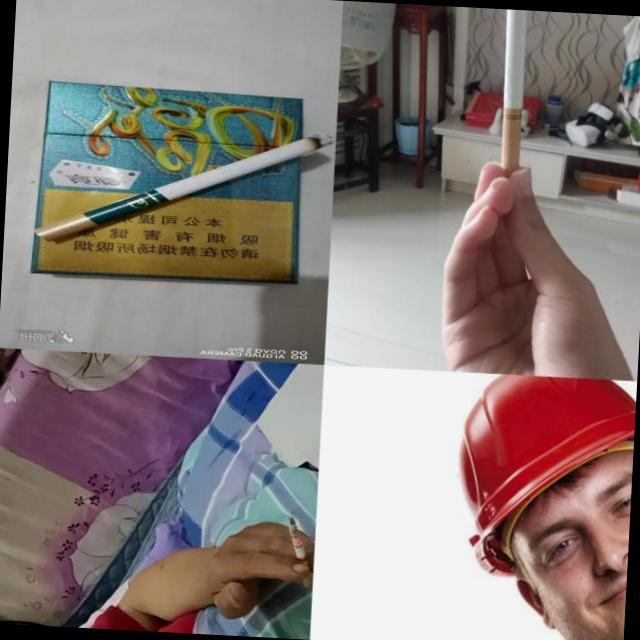cigarette: (31, 118, 334, 257), (496, 10, 528, 174), (284, 517, 316, 589)
